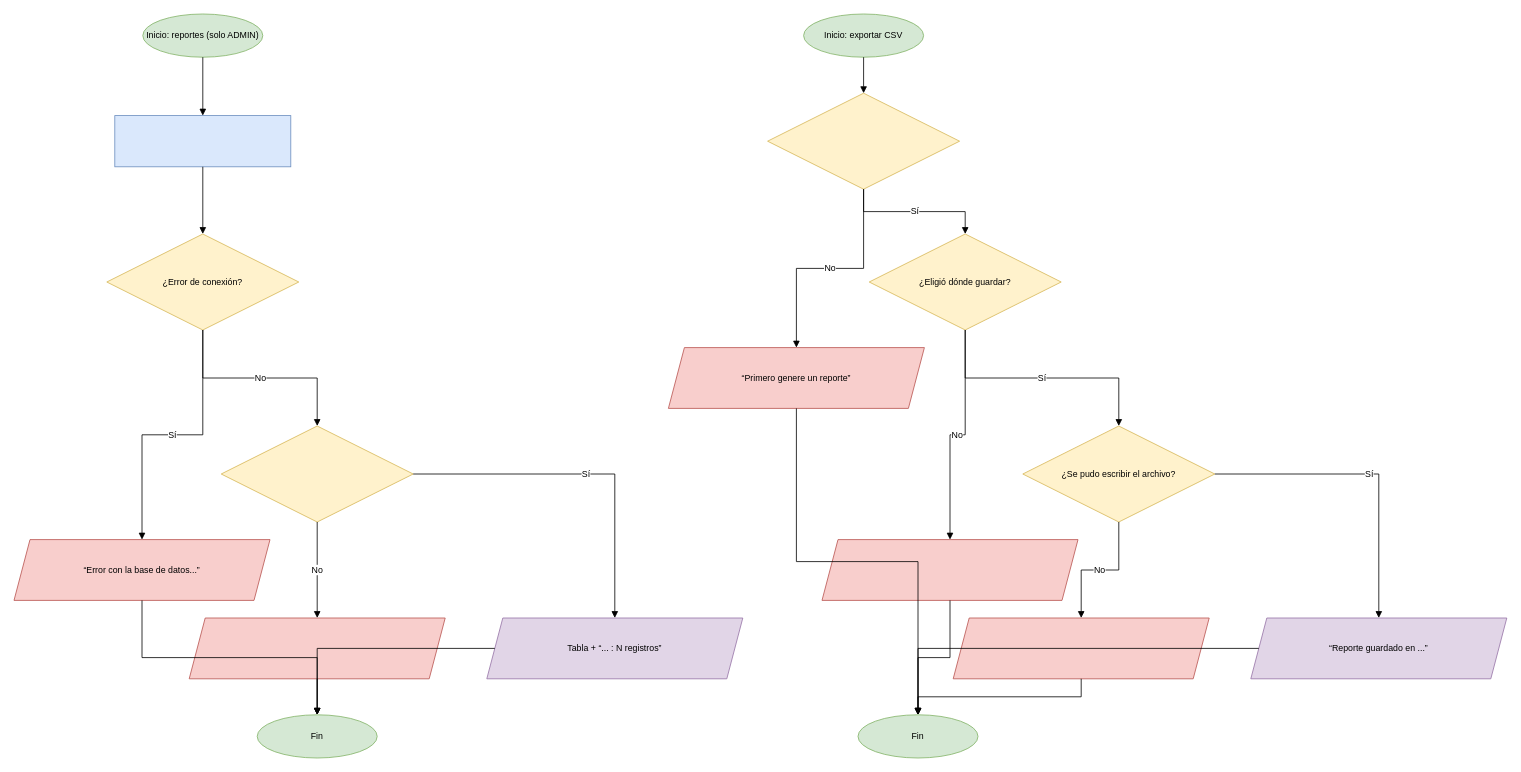
This 1521x772 diagram has some shape labels left out. Each missing label, with the centre of its shape:
Elegir un reporte y pulsar Generar: (x=202, y=141)
¿Hay datos?: (x=316, y=473)
¿Ya generó un reporte?: (x=863, y=140)
“El reporte no tiene datos por ahora”: (x=316, y=648)
“Exportación cancelada”: (x=949, y=569)
“No se pudo guardar el archivo. Revise la carpeta elegida.”: (x=1080, y=648)
